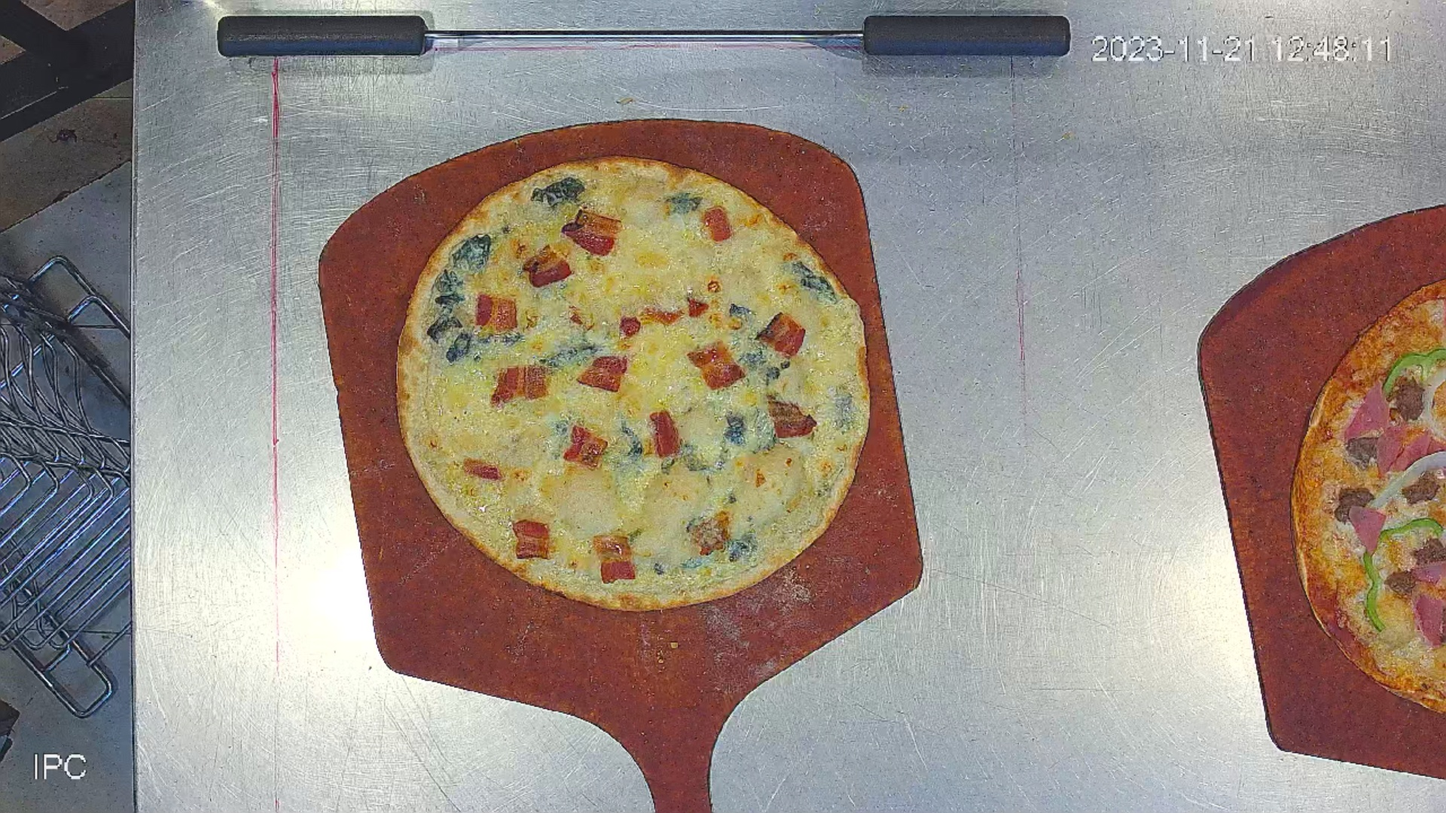pepporoni: (395, 151, 875, 615), (1290, 273, 1446, 716)
